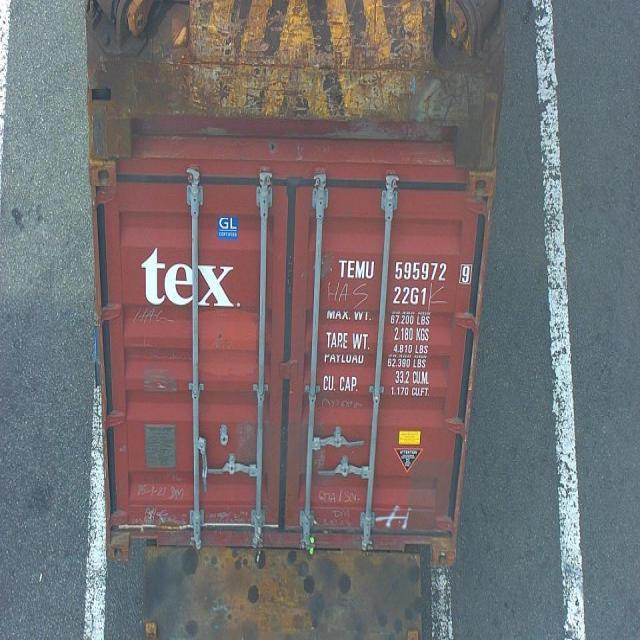ISO: (394, 284, 428, 304)
container_number: (335, 258, 464, 282)
